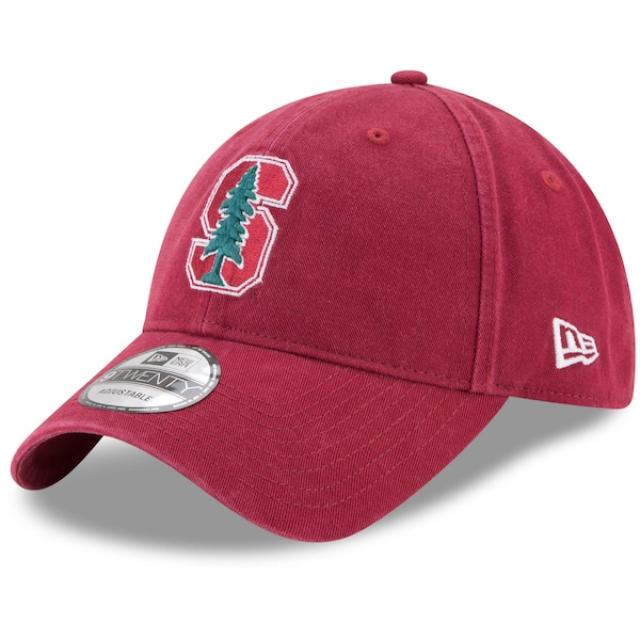no_helmet: (2, 26, 638, 554)
